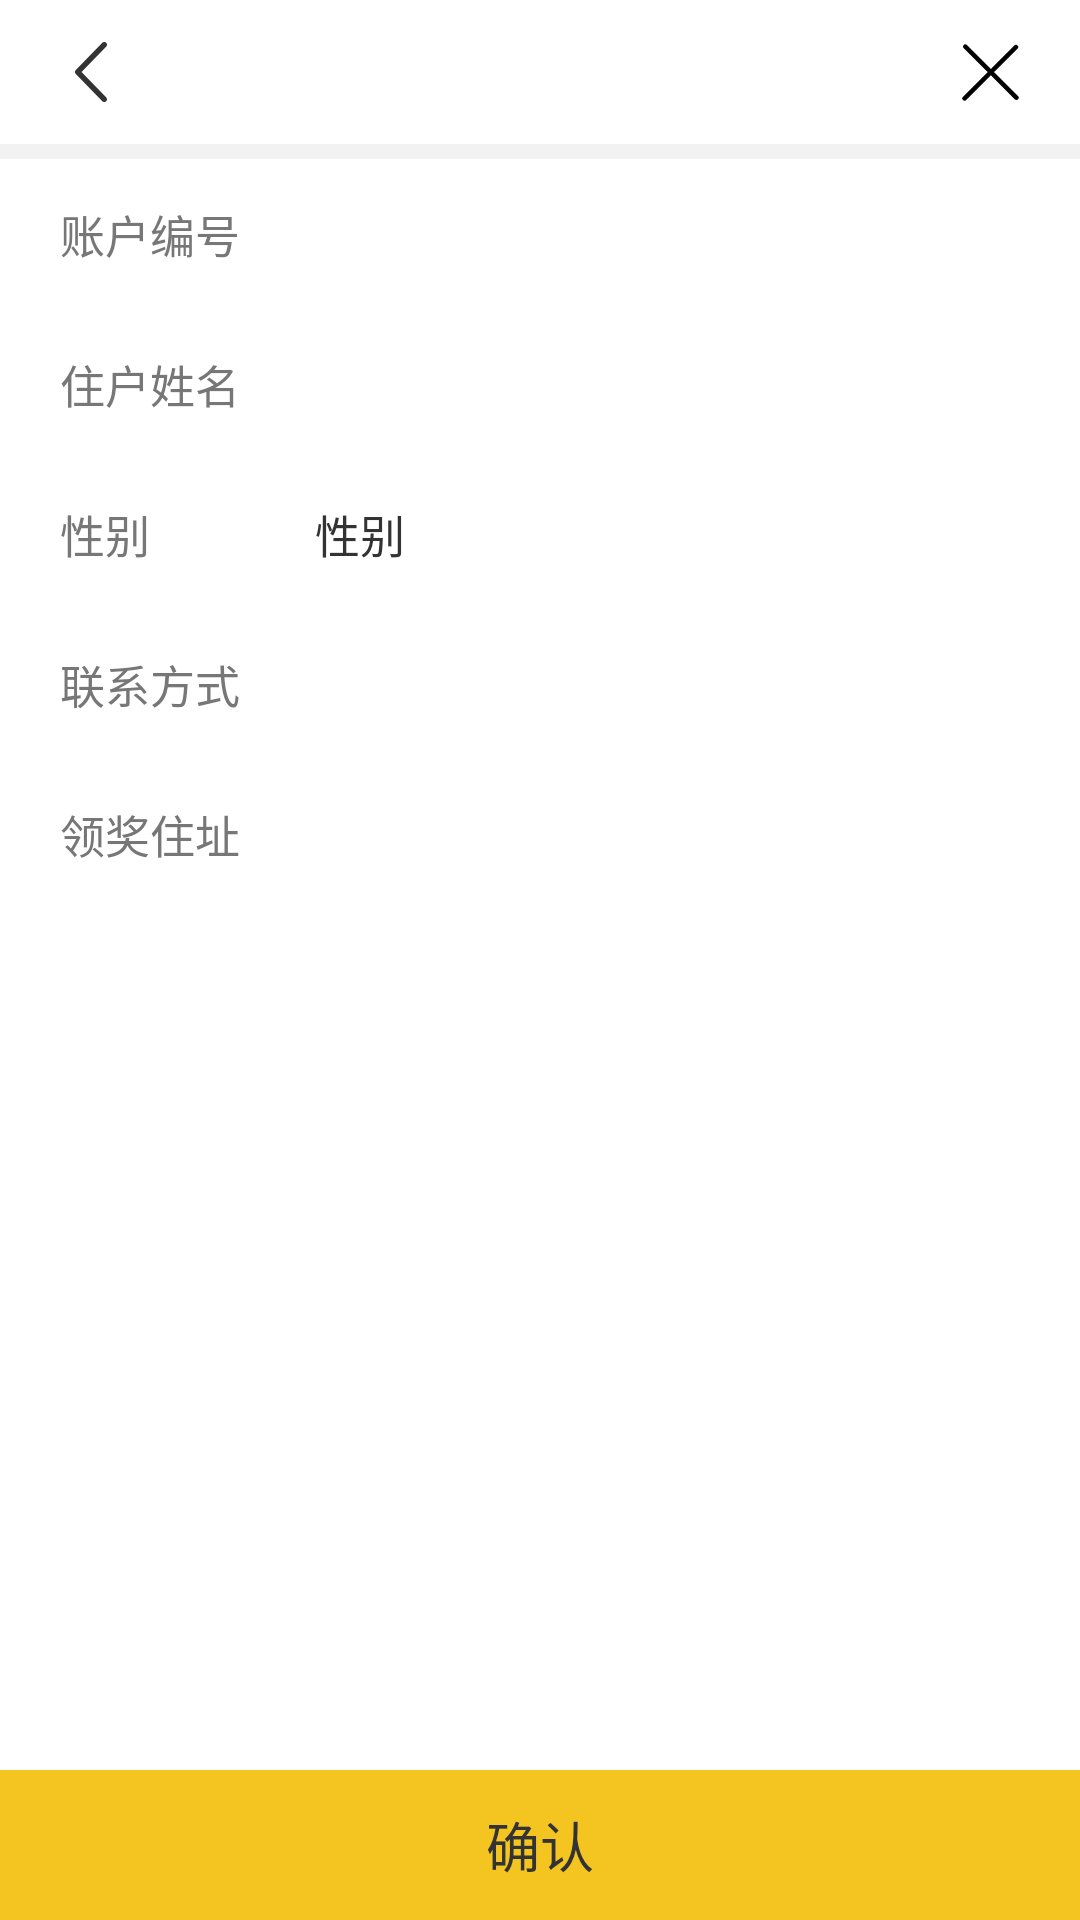

Where icons sit on this 1080px×1920px app screen, as (x1, y1, x2, y2):
上一步: (75, 42, 107, 102)
